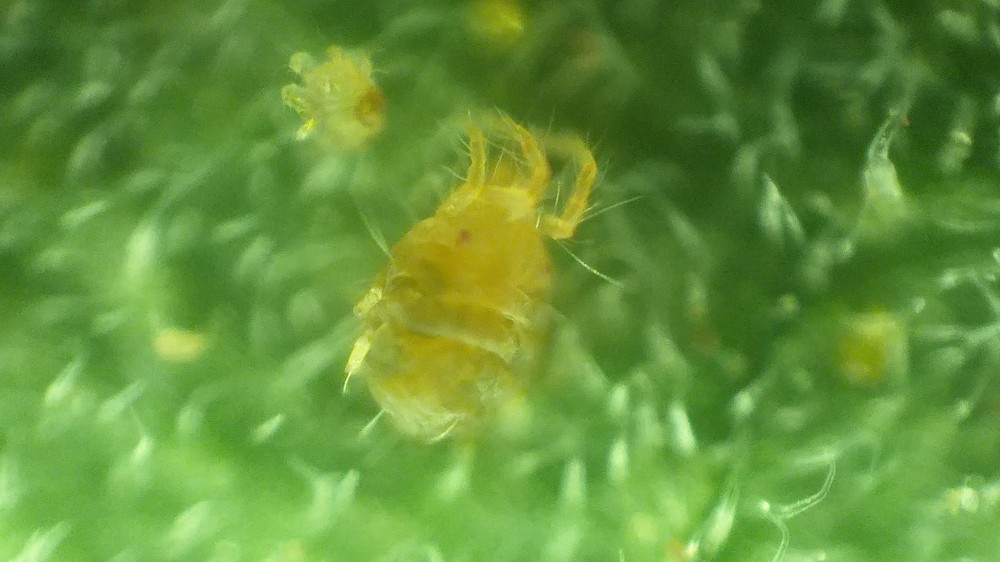Aracnido Rojo: (347, 103, 617, 458), (280, 41, 407, 156)
